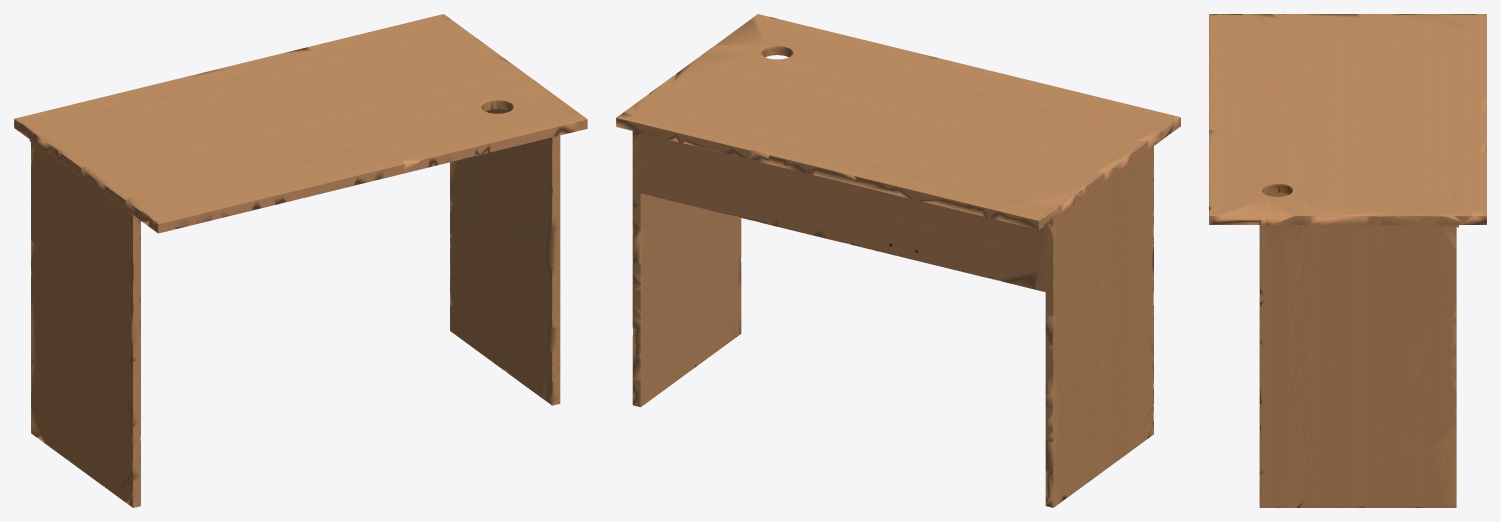
Rendered from Meshy_AI_Wooden_Desk2_1012140817_image-to-3d-texture.glb.
The picture shows the model from 3 angles, left to right: view 1: azimuth 30°, elevation 25°; view 2: azimuth 150°, elevation 25°; view 3: azimuth 270°, elevation 25°; orthographic projection. The views are drawn at different scales.
Size of the model in its own units: 1.9 by 1.28 by 1.11.
1 material, 1 textured.
